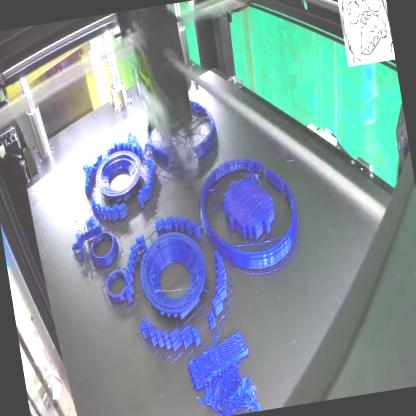fail: (195, 352, 262, 416)
